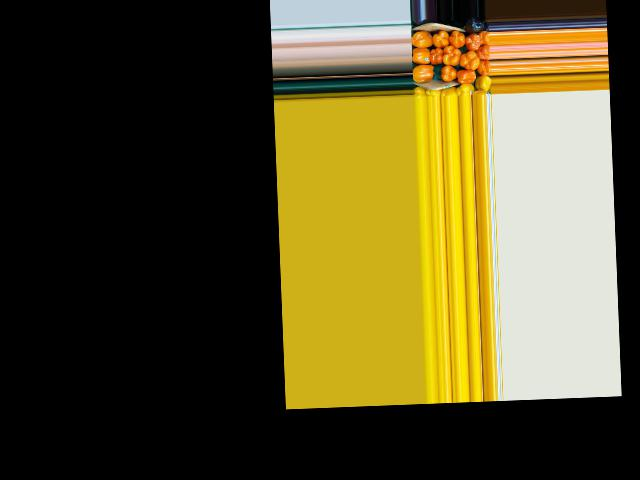bell_pepper: (453, 83, 475, 94)
